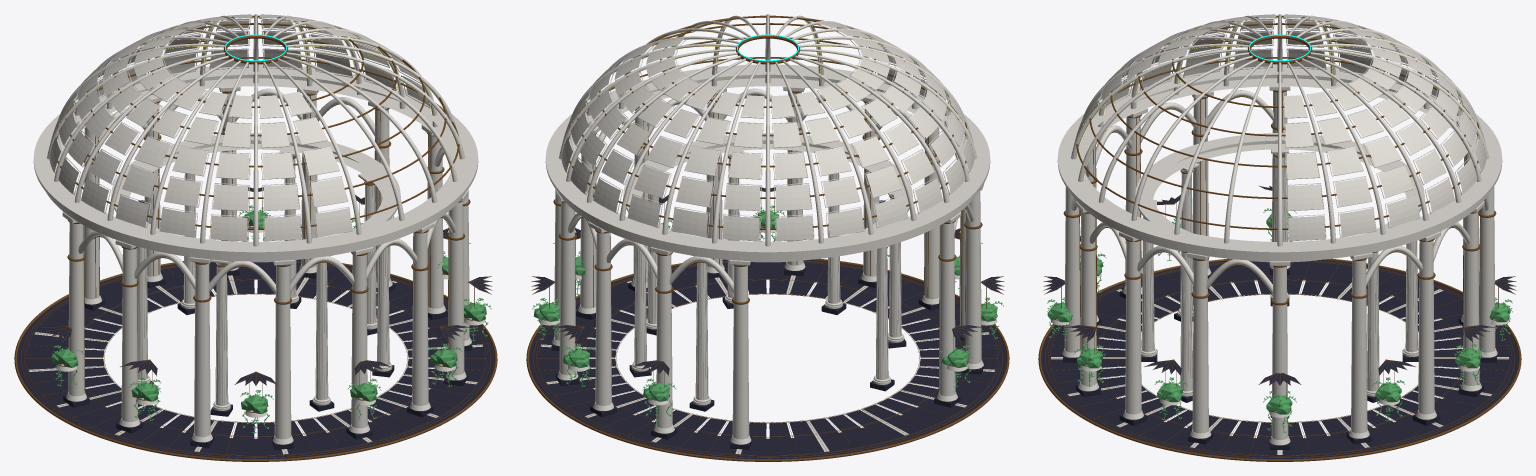
Rendered from observatory-vault.glb.
The picture shows the model from 3 angles, left to right: view 1: azimuth 30°, elevation 25°; view 2: azimuth 150°, elevation 25°; view 3: azimuth 270°, elevation 25°; orthographic projection.
Visible parts, largest first — view 1: ObservatoryVault · Stone · warm limestone, ObservatoryVault · Stone · midnight basalt, ObservatoryVault · Metal · brushed bronze, ObservatoryVault · Garden · jade foliage; view 2: ObservatoryVault · Stone · warm limestone, ObservatoryVault · Stone · midnight basalt, ObservatoryVault · Metal · brushed bronze, ObservatoryVault · Garden · jade foliage; view 3: ObservatoryVault · Stone · warm limestone, ObservatoryVault · Stone · midnight basalt, ObservatoryVault · Metal · brushed bronze, ObservatoryVault · Garden · jade foliage.
Part boxes in pixels (x1=…): ObservatoryVault · Stone · warm limestone: x1=29, y1=14, x2=485, y2=454; ObservatoryVault · Stone · midnight basalt: x1=17, y1=187, x2=494, y2=459; ObservatoryVault · Metal · brushed bronze: x1=14, y1=15, x2=497, y2=461; ObservatoryVault · Garden · jade foliage: x1=51, y1=205, x2=491, y2=433; ObservatoryVault · Stone · warm limestone: x1=538, y1=14, x2=997, y2=454; ObservatoryVault · Stone · midnight basalt: x1=529, y1=187, x2=1006, y2=459; ObservatoryVault · Metal · brushed bronze: x1=526, y1=15, x2=1009, y2=461; ObservatoryVault · Garden · jade foliage: x1=532, y1=205, x2=1003, y2=420; ObservatoryVault · Stone · warm limestone: x1=1050, y1=14, x2=1509, y2=454; ObservatoryVault · Stone · midnight basalt: x1=1041, y1=186, x2=1518, y2=459; ObservatoryVault · Metal · brushed bronze: x1=1038, y1=15, x2=1521, y2=461; ObservatoryVault · Garden · jade foliage: x1=1047, y1=208, x2=1512, y2=432.
Bounding box in the file's own units: 51.3 × 36.67 × 51.3.
